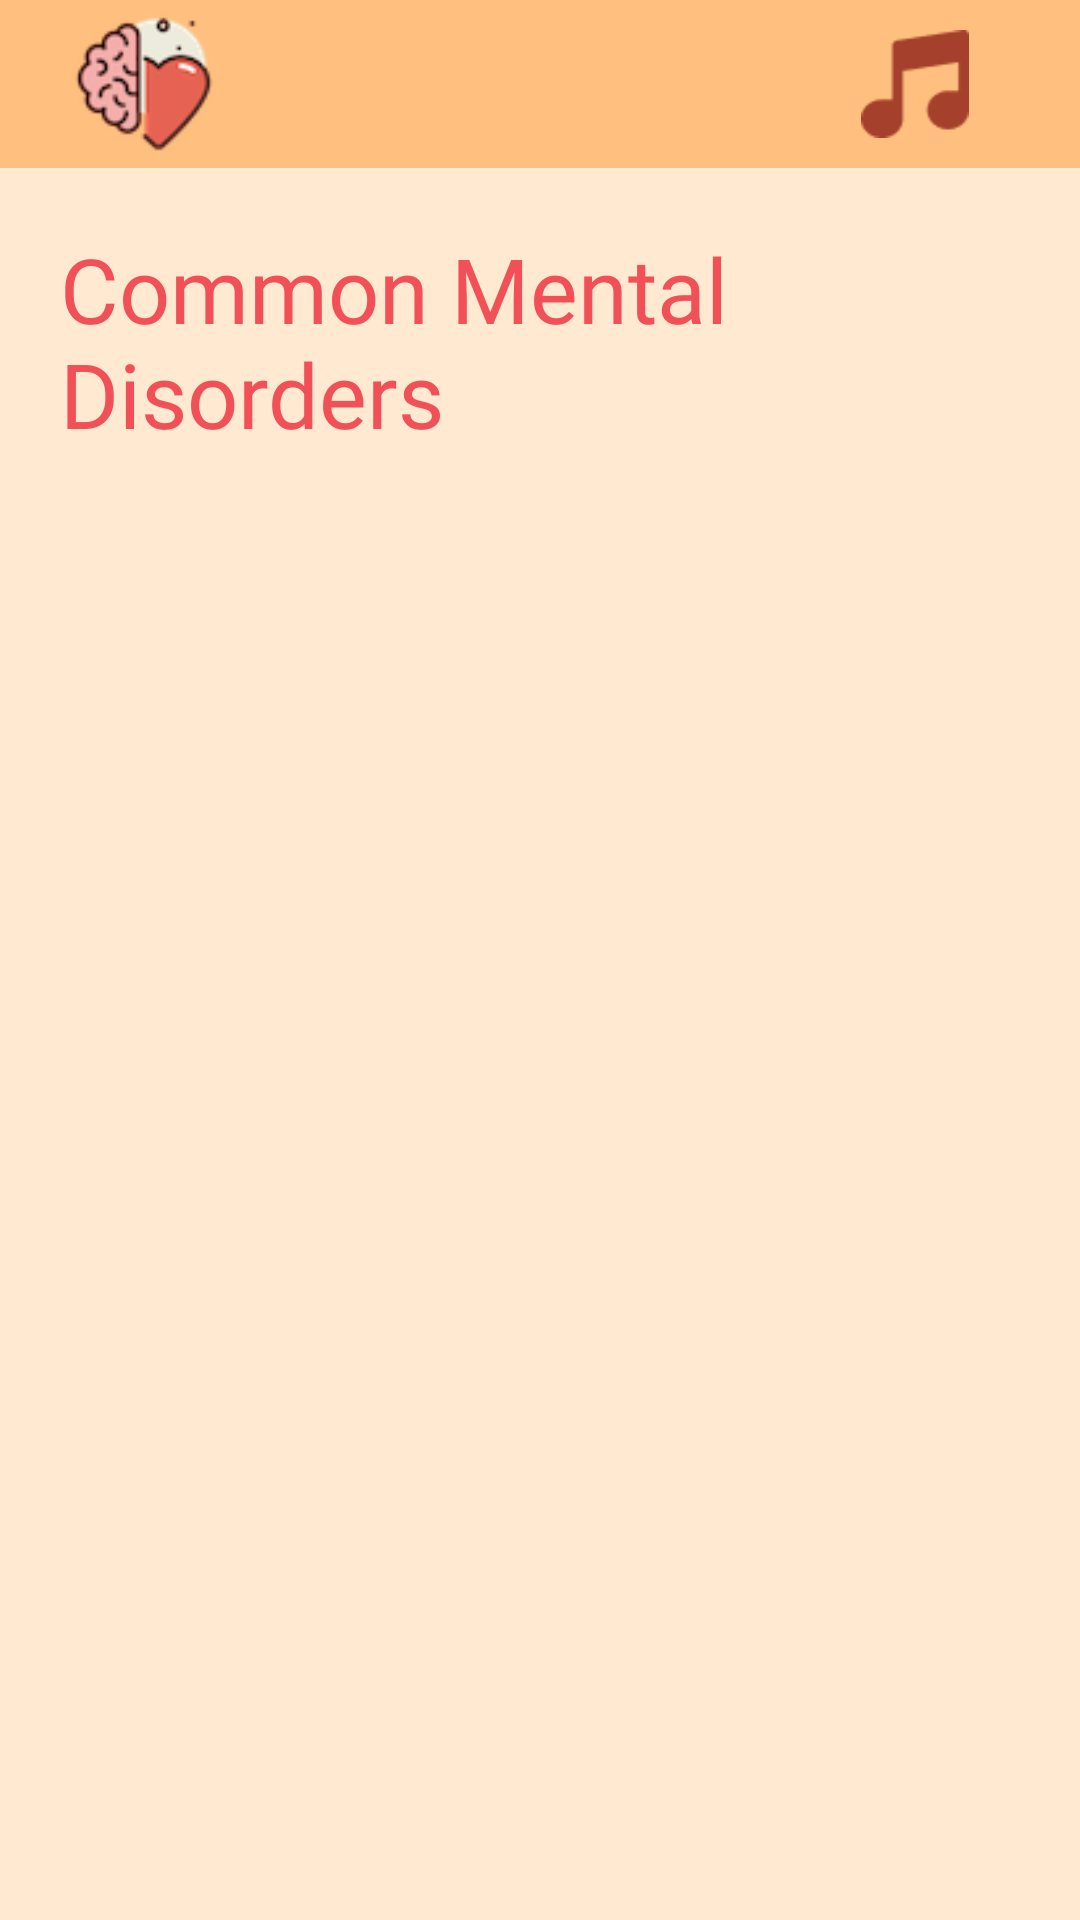

Screen size 1080 x 1920. Icon name, then its box in pixels as (x1, y1, x2, y2):
music: (861, 30, 969, 138)
